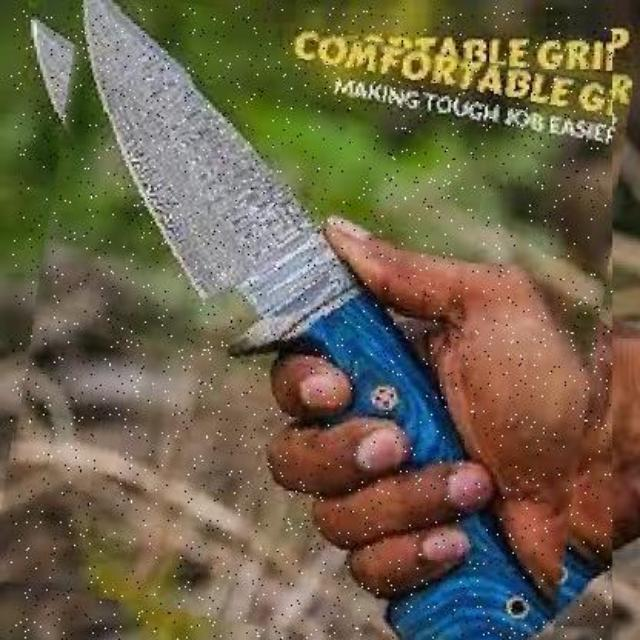Knife: (11, 6, 612, 640)
